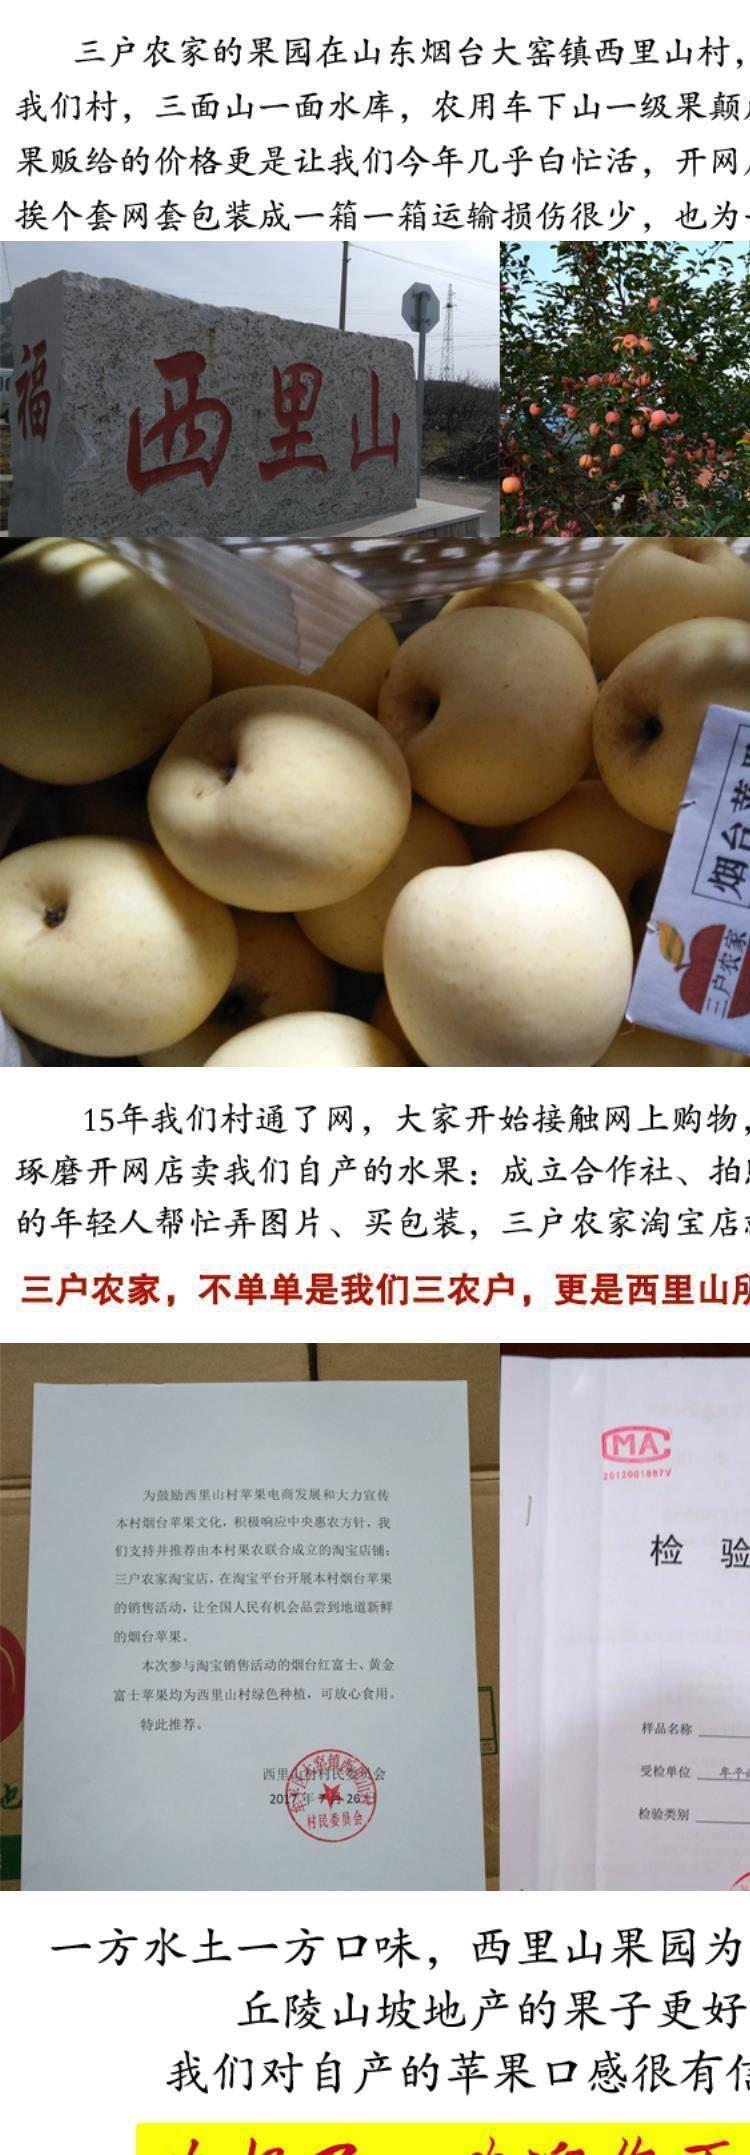apple: (150, 684, 412, 911), (385, 844, 632, 1067), (1, 831, 240, 1057), (1, 535, 214, 788), (1, 838, 231, 1064), (382, 603, 598, 826), (585, 613, 747, 827), (587, 536, 750, 672)
